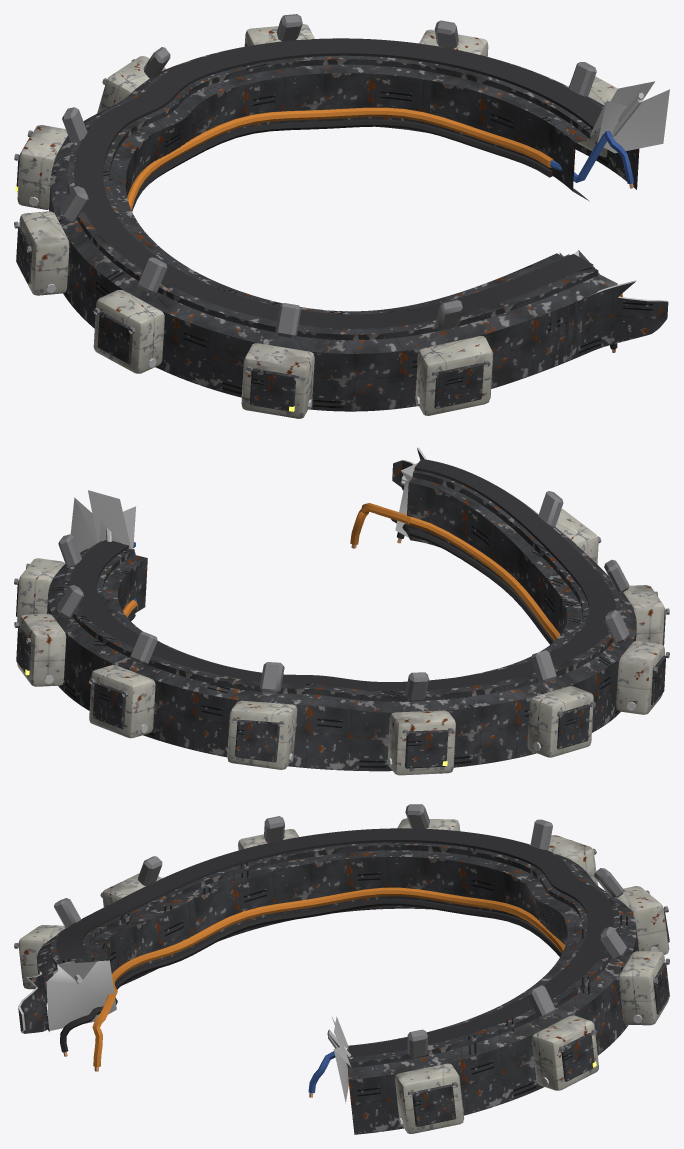
The model's file is capsule_collar_ring.glb.
3 renders of one model, top to bottom at view 1: azimuth 30°, elevation 25°; view 2: azimuth 150°, elevation 25°; view 3: azimuth 270°, elevation 25°, orthographic. The views are drawn at different scales.
Parts seen in each view (by area): view 1: capsule_collar_ring; view 2: capsule_collar_ring; view 3: capsule_collar_ring.
Boxes of the visible parts, x1,y1,x2,y2 form: capsule_collar_ring: (14, 14, 669, 418); capsule_collar_ring: (14, 447, 669, 775); capsule_collar_ring: (14, 804, 669, 1134).
Size of the model in its own units: 1.69 by 0.3833 by 1.72.
Materials: 10 (2 with a texture image).
